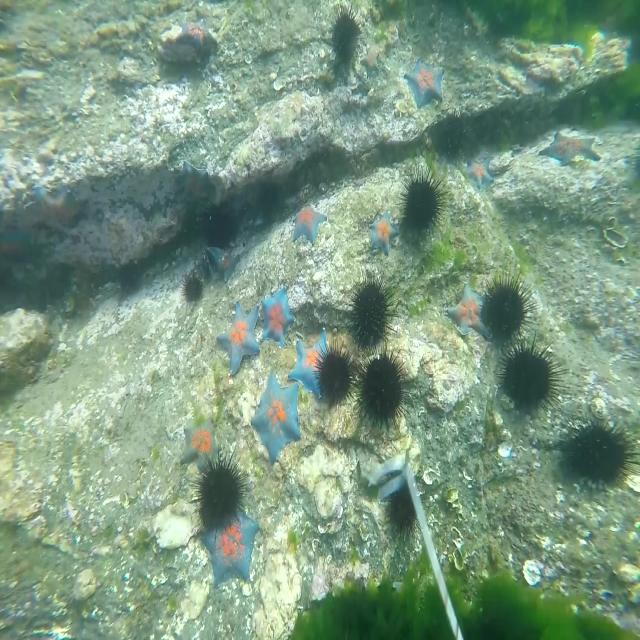echinus: (559, 414, 639, 494), (496, 342, 570, 421), (356, 345, 415, 431), (188, 452, 246, 538), (479, 270, 540, 350), (348, 270, 400, 352), (384, 468, 422, 542), (323, 1, 362, 64), (317, 346, 351, 418), (200, 200, 242, 250), (179, 266, 205, 306)
starfish: (198, 504, 260, 590), (247, 373, 303, 462), (292, 320, 336, 395), (217, 301, 259, 375), (27, 182, 88, 228), (258, 278, 296, 348), (447, 282, 490, 342), (541, 128, 598, 168), (403, 54, 442, 106), (182, 419, 220, 472), (171, 15, 216, 58), (292, 201, 326, 249), (458, 153, 493, 198), (202, 242, 240, 283), (0, 227, 37, 268), (362, 210, 396, 254)
